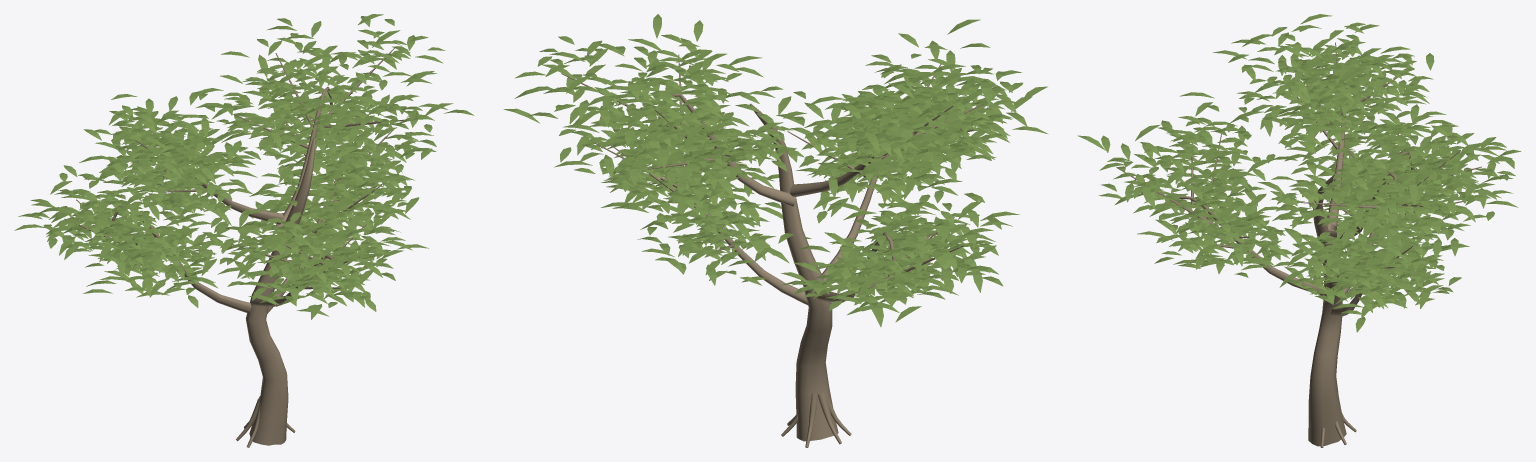
File: small_tree_lod0.glb
3 views of the same model, side by side, from view 1: azimuth 30°, elevation 25°; view 2: azimuth 150°, elevation 25°; view 3: azimuth 270°, elevation 25° (orthographic). The views are drawn at different scales.
Visible parts, largest first — view 1: Leaves, Bark; view 2: Leaves, Bark; view 3: Leaves, Bark.
Boxes of the visible parts, box(x1,y1,x2,y2) form: Leaves: box(14, 14, 474, 319); Bark: box(64, 48, 404, 447); Leaves: box(503, 14, 1048, 326); Bark: box(561, 54, 983, 447); Leaves: box(1077, 14, 1521, 332); Bark: box(1117, 42, 1481, 447).
Size of the model in its own units: 9.71 by 7.48 by 8.56.
